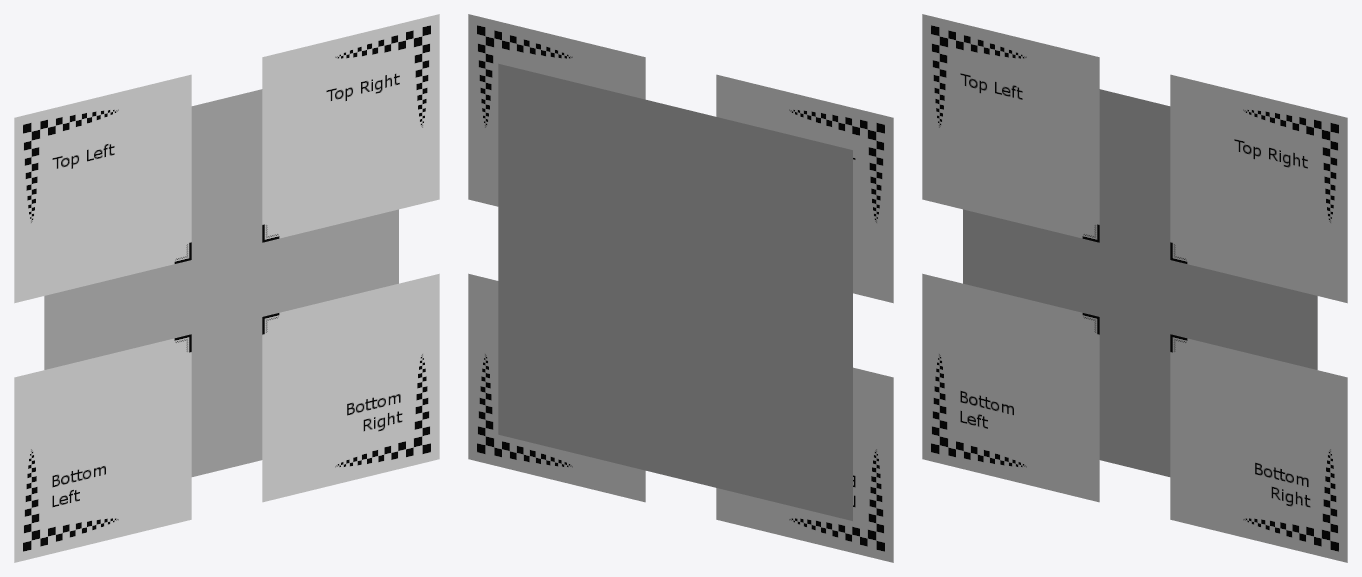
3 views of the same model, side by side, from view 1: azimuth 30°, elevation 25°; view 2: azimuth 150°, elevation 25°; view 3: azimuth 330°, elevation 25° (orthographic).
Visible parts, largest first — view 1: BackPlane, BottomRightObj, TopLeftObj, BottomLeftObj, TopRightObj; view 2: BackPlane, TopLeftObj, TopRightObj, BottomLeftObj, BottomRightObj; view 3: BackPlane, BottomLeftObj, TopRightObj, BottomRightObj, TopLeftObj.
Part boxes in pixels (x1,y1,x2,y2): BackPlane: [44, 89, 398, 476]; BottomRightObj: [262, 273, 439, 502]; TopLeftObj: [14, 74, 191, 303]; BottomLeftObj: [14, 334, 191, 562]; TopRightObj: [262, 14, 439, 242]; BackPlane: [498, 63, 852, 520]; TopLeftObj: [716, 74, 893, 303]; TopRightObj: [468, 14, 645, 206]; BottomLeftObj: [716, 367, 893, 562]; BottomRightObj: [468, 273, 645, 502]; BackPlane: [963, 89, 1317, 476]; BottomLeftObj: [922, 273, 1099, 502]; TopRightObj: [1170, 74, 1347, 303]; BottomRightObj: [1170, 334, 1347, 562]; TopLeftObj: [922, 14, 1099, 242].
Size of the model in its own units: 2.4 by 2.4 by 0.0526.
Materials: 5 (4 with a texture image).
